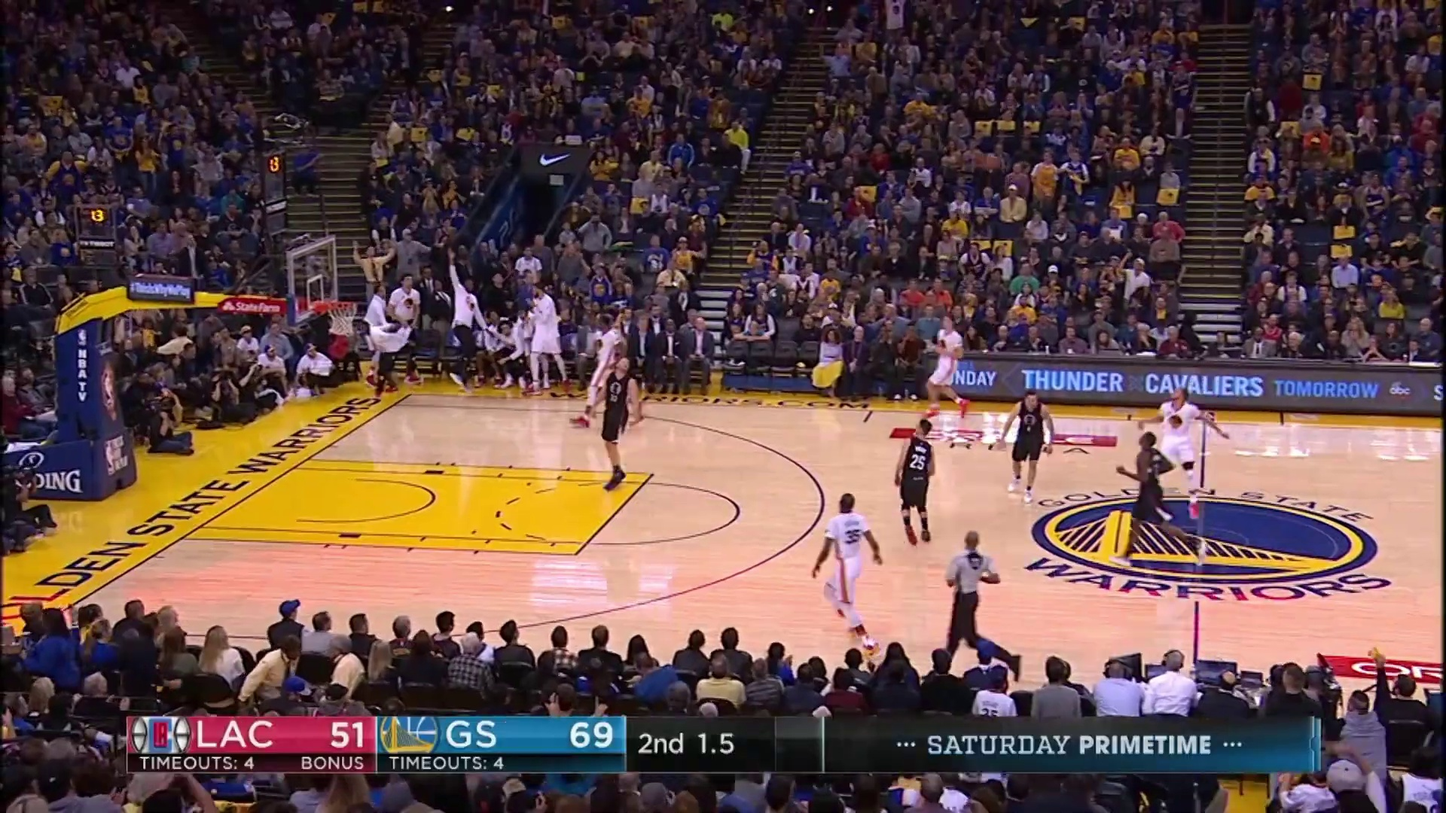basket_hoop: (268, 222, 377, 353)
